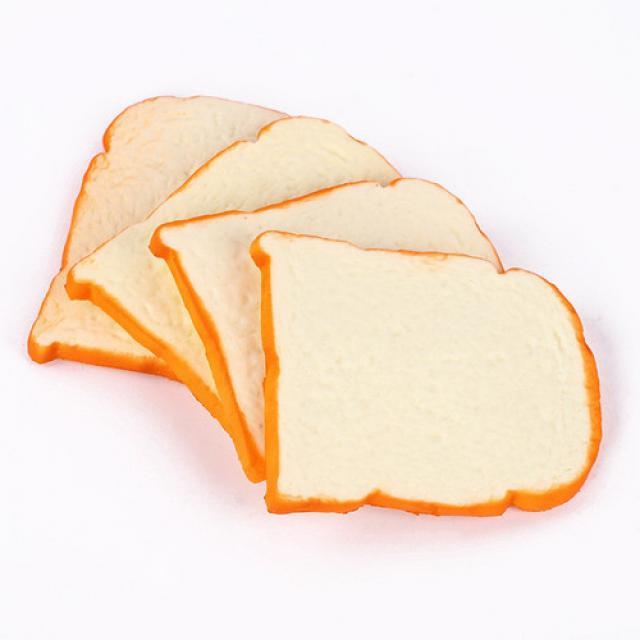Bread: (30, 91, 597, 521)
